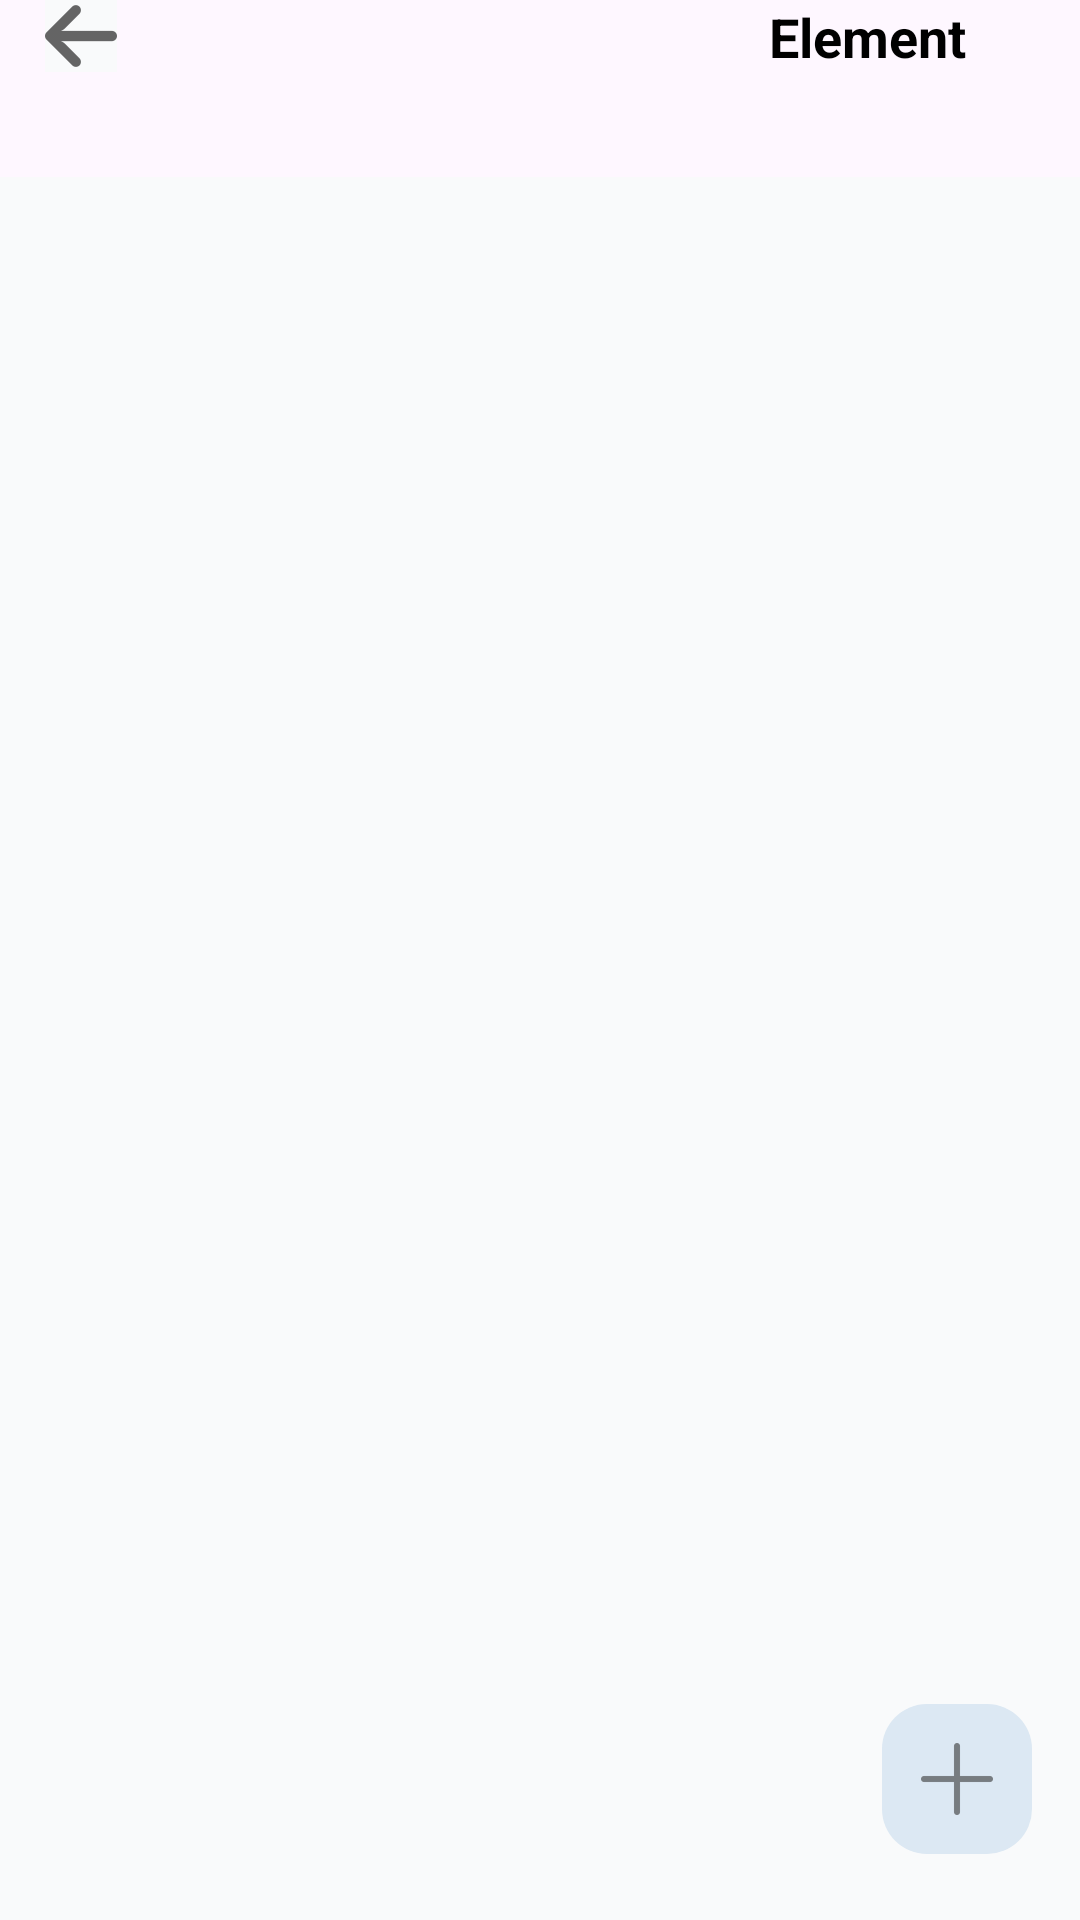

Where to tap for icons on this 1080 x 1920 app screen, as [x,y]:
arrow left: [81,36]
plus: [957,1779]
